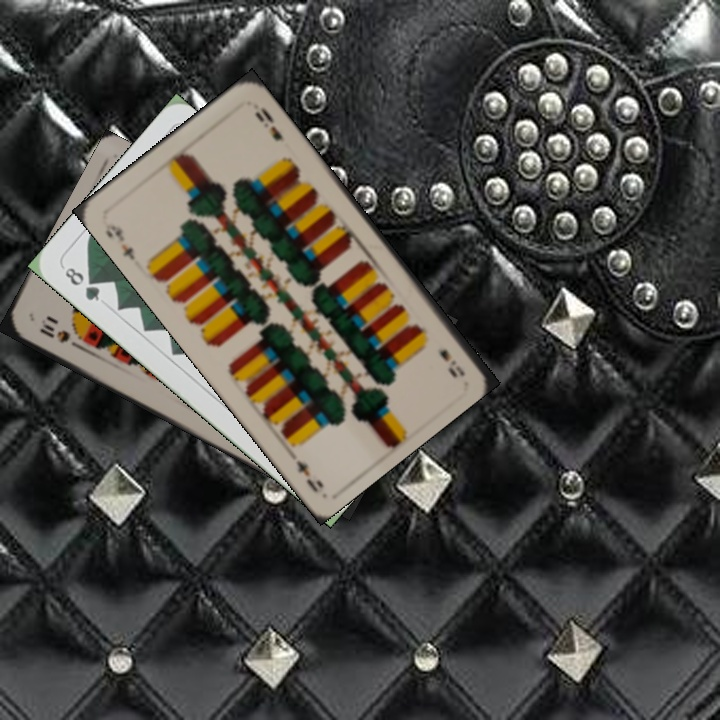E9: (101, 219, 138, 263), (434, 345, 468, 380)
G8: (60, 263, 103, 304)
S10: (35, 315, 84, 352)
